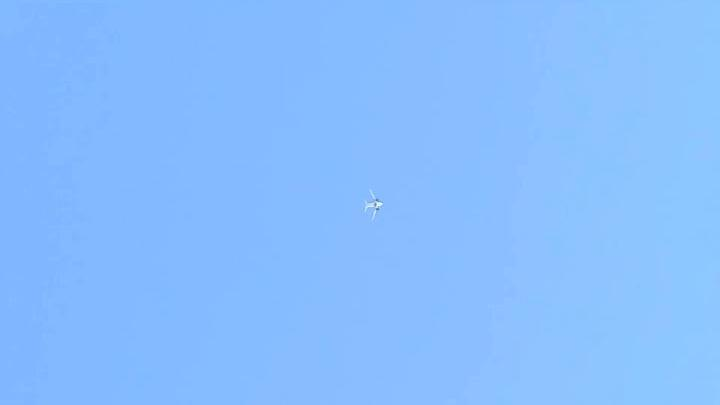Plane: (349, 187, 397, 224)
